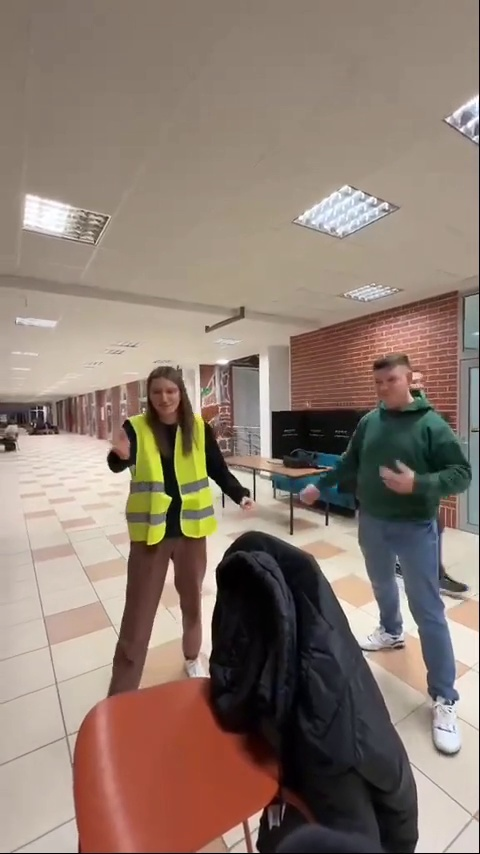no vest: (316, 350, 472, 756)
vest: (113, 371, 269, 695)
